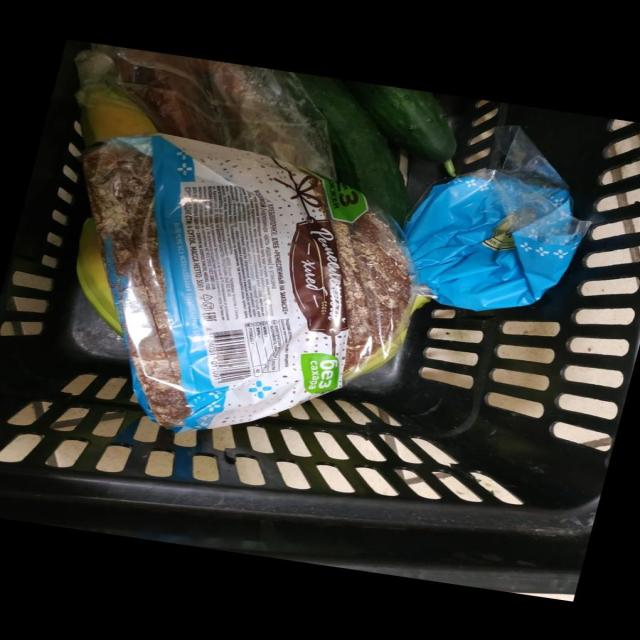cucumber: (197, 123, 608, 327), (223, 86, 640, 230)
